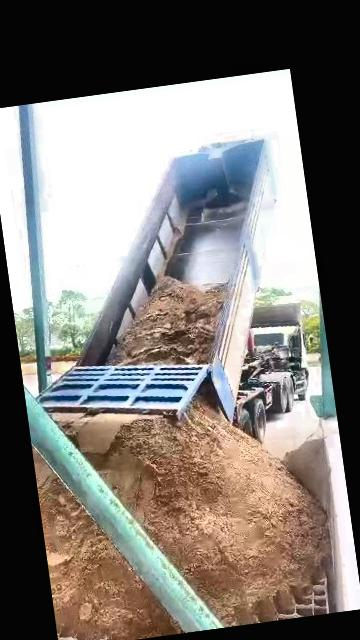sand: (56, 397, 329, 625), (38, 476, 179, 640), (111, 278, 221, 364), (282, 427, 329, 508), (34, 450, 55, 491), (200, 384, 216, 409)
